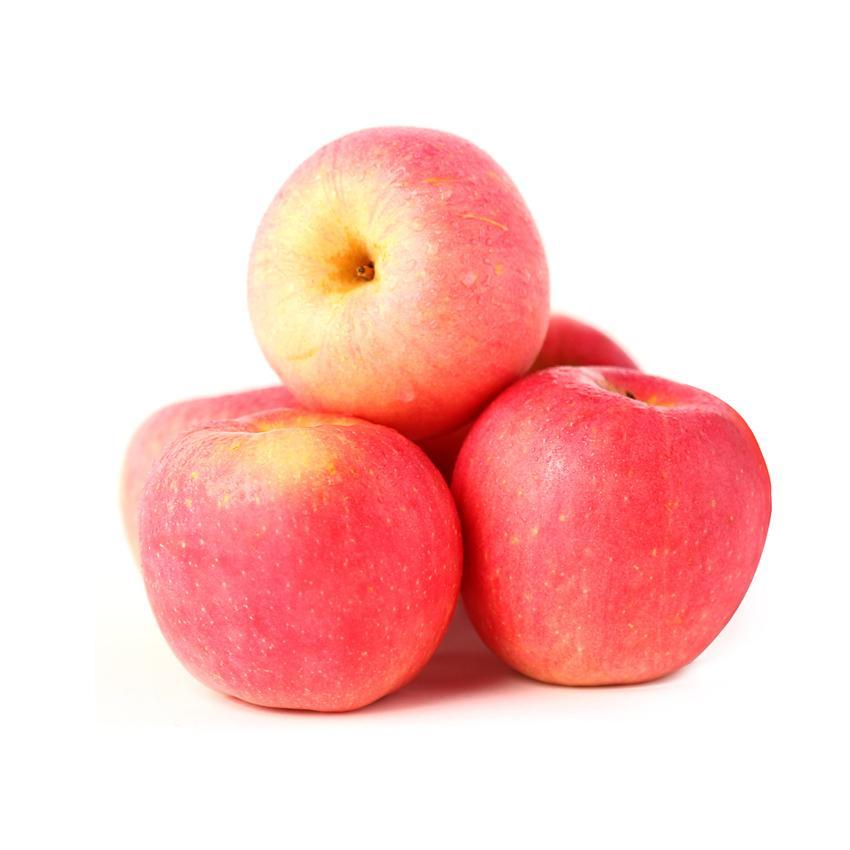apple: (125, 406, 462, 726), (453, 370, 776, 687), (240, 127, 551, 435)
